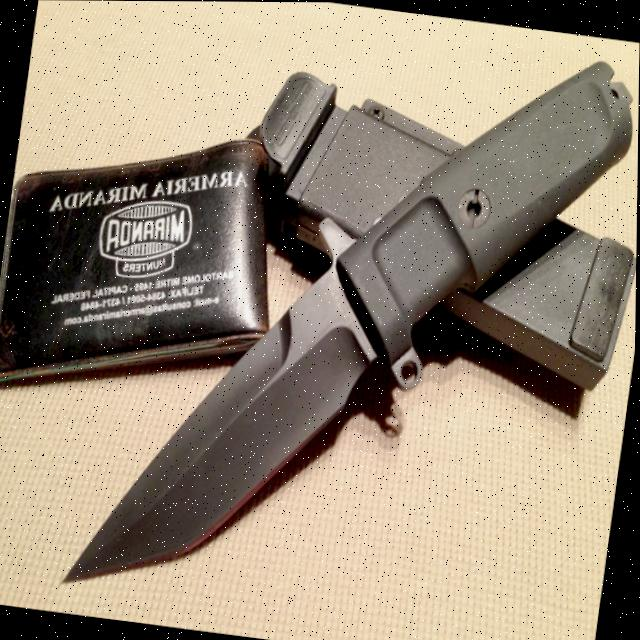knife: (60, 10, 640, 640)
